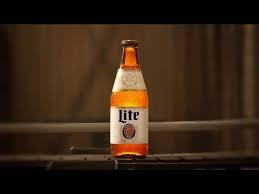Glass bottle: (98, 33, 164, 161)
